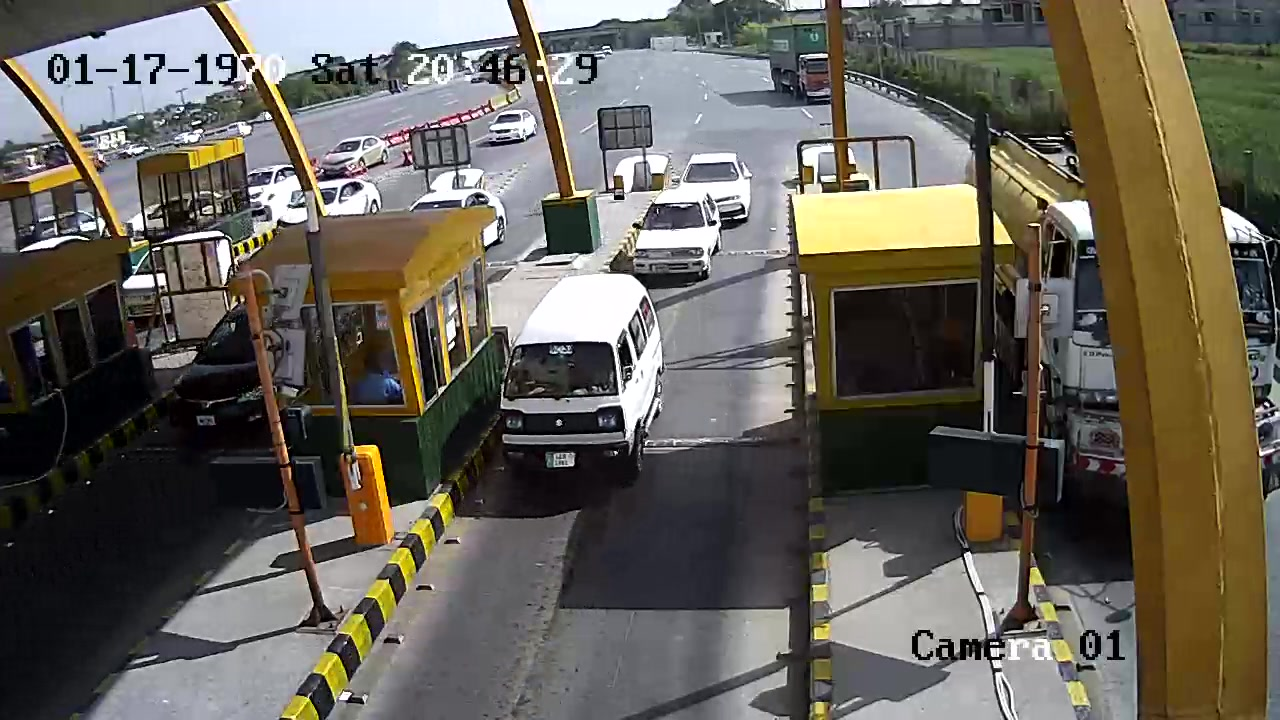F1: (498, 268, 666, 482)
